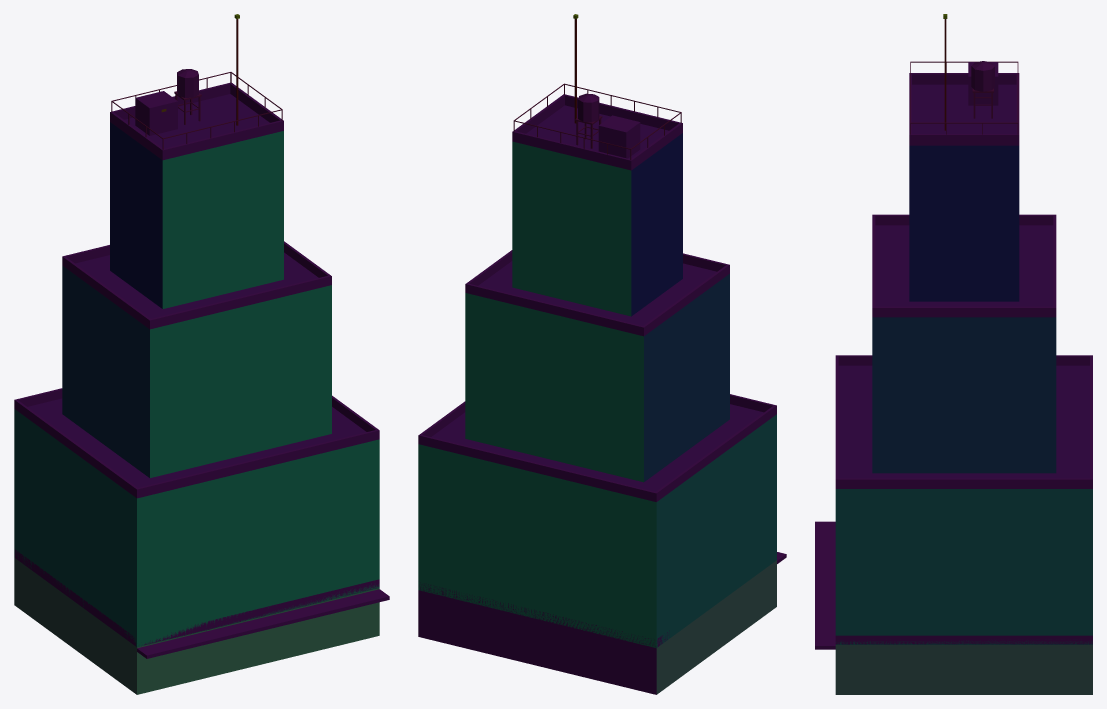
The model's file is midrise_f.glb.
3 views of the same model, side by side, from view 1: azimuth 30°, elevation 25°; view 2: azimuth 150°, elevation 25°; view 3: azimuth 270°, elevation 25° (orthographic). The views are drawn at different scales.
Visible parts, largest first — view 1: midrise_f; view 2: midrise_f; view 3: midrise_f.
Boxes of the visible parts, <box> form: midrise_f: <box>14,14,389,694</box>; midrise_f: <box>418,14,786,694</box>; midrise_f: <box>815,14,1092,694</box>.
Bounding box in the file's own units: 25.6 × 60.9 × 24.2.
